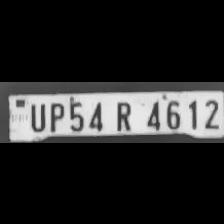1: (183, 97, 199, 129)
2: (200, 96, 220, 128)
4: (140, 97, 164, 129), (84, 98, 107, 130)
5: (65, 98, 85, 130)
6: (162, 97, 182, 129)
P: (46, 99, 64, 130)
R: (110, 98, 136, 130)
U: (26, 99, 46, 130)
